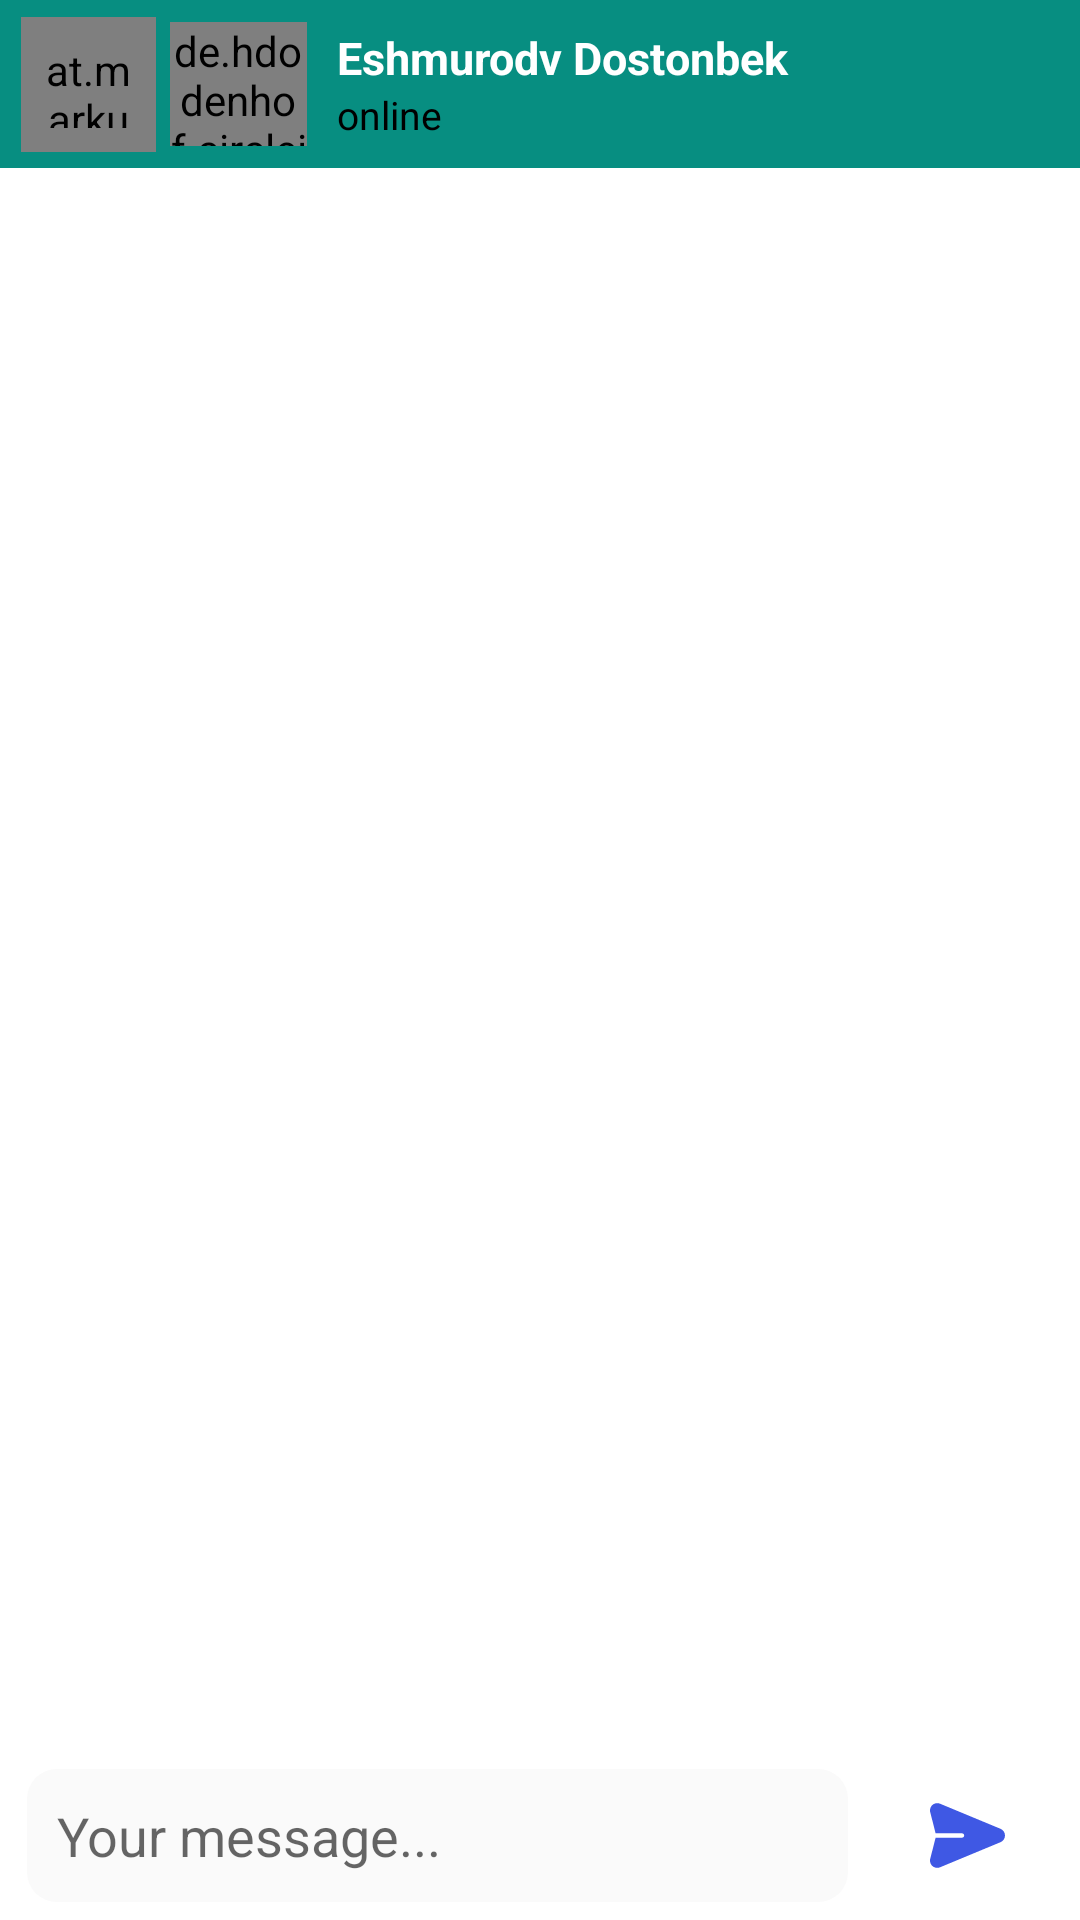

Icon click points for this 1080w x 1920h phone screenshot, format (x,y):
send: (967,1835)
